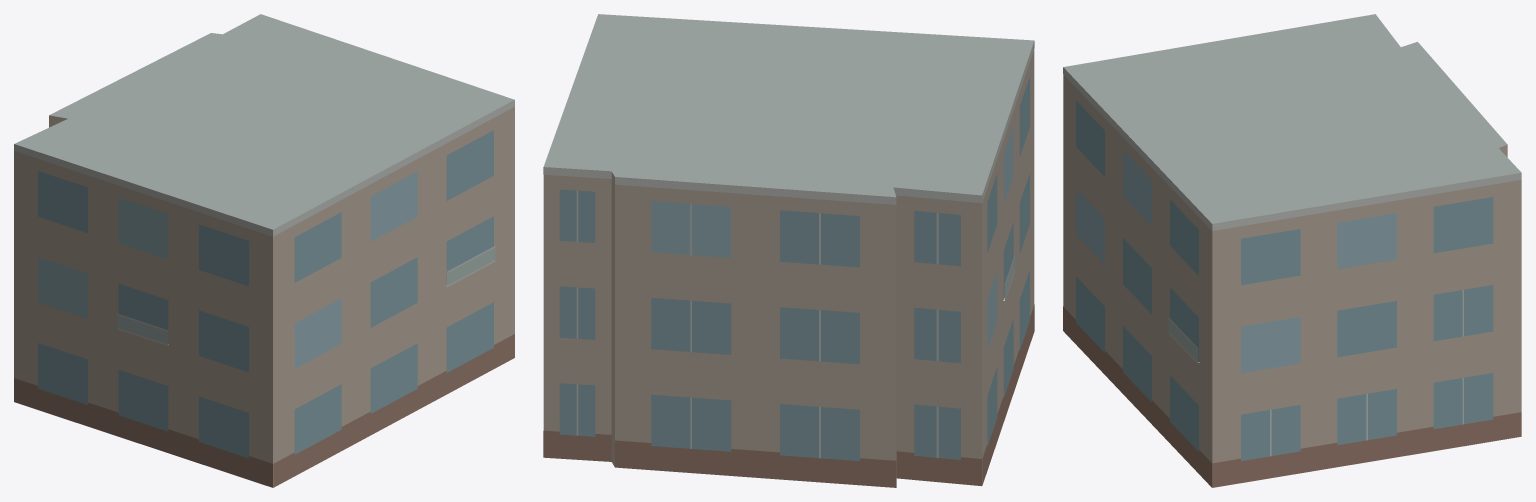
The model's file is survey-upis-32818907.glb.
3 views of the same model, side by side, from view 1: azimuth 30°, elevation 25°; view 2: azimuth 150°, elevation 25°; view 3: azimuth 270°, elevation 25° (orthographic). The views are drawn at different scales.
Parts seen in each view (by area): view 1: survey-upis-32818907.tmp; view 2: survey-upis-32818907.tmp; view 3: survey-upis-32818907.tmp.
Part boxes in pixels (x1,y1,x2,y2): survey-upis-32818907.tmp: (14, 14, 514, 487); survey-upis-32818907.tmp: (543, 14, 1034, 487); survey-upis-32818907.tmp: (1063, 14, 1521, 487).
Bounding box in the file's own units: 15.63 × 9.15 × 14.42.
